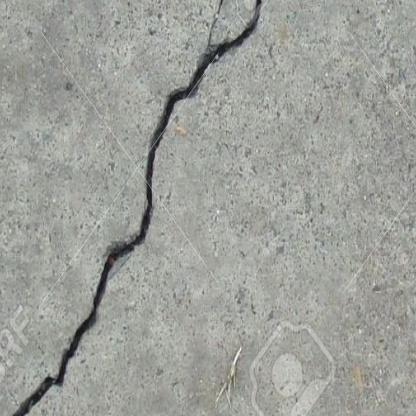Cracks: (3, 0, 269, 416)
